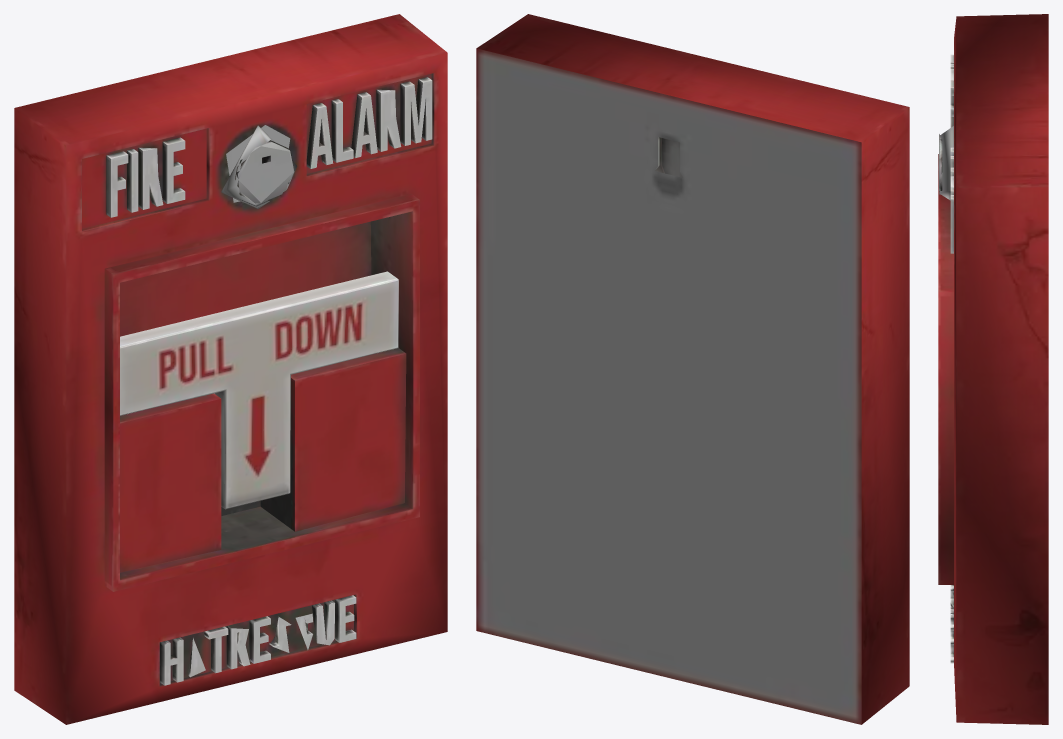
File: fire_alarm.glb
3 renders of one model, left to right at view 1: azimuth 30°, elevation 25°; view 2: azimuth 150°, elevation 25°; view 3: azimuth 270°, elevation 25°, orthographic. The views are drawn at different scales.
Parts seen in each view (by area): view 1: fire_alarm, fire_alarm_lever; view 2: fire_alarm; view 3: fire_alarm.
Boxes of the visible parts, x1,y1,x2,y2 form: fire_alarm: (14, 14, 447, 724); fire_alarm_lever: (120, 271, 398, 509); fire_alarm: (476, 14, 909, 724); fire_alarm: (938, 14, 1048, 724).
Size of the model in its own units: 0.0984 by 0.1422 by 0.0264.
Materials: 1 (1 with a texture image).
